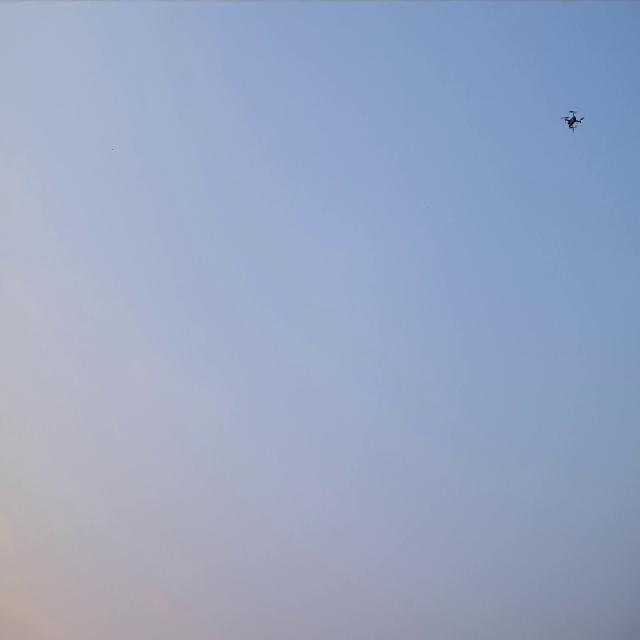UAV: (562, 109, 586, 133)
